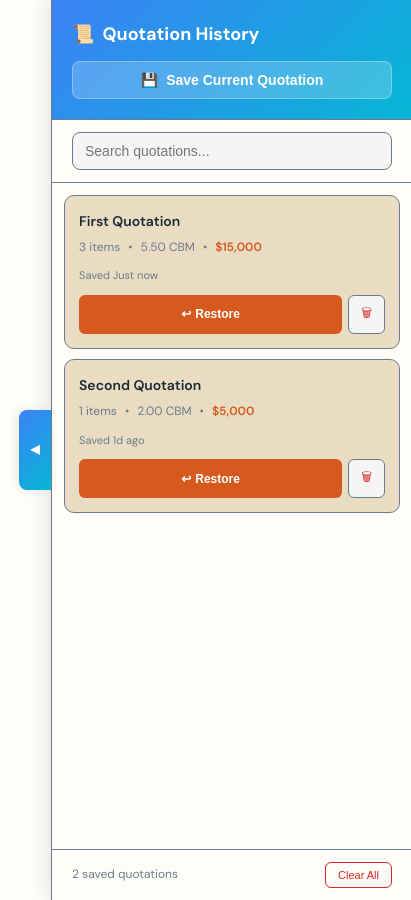
Test: HistoryPanel › rename functionality › should cancel edit on escape key
Click the text "First Quotation".
click(130, 221)  # box x1=79 y1=212 x2=180 y2=230
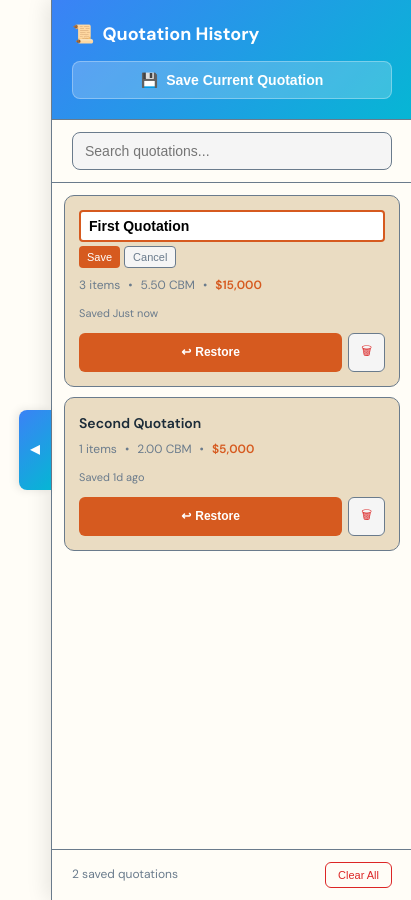
Type "Changed" into the field showing "First Quotation".
click(232, 226); type("Changed")  # box x1=79 y1=210 x2=385 y2=242
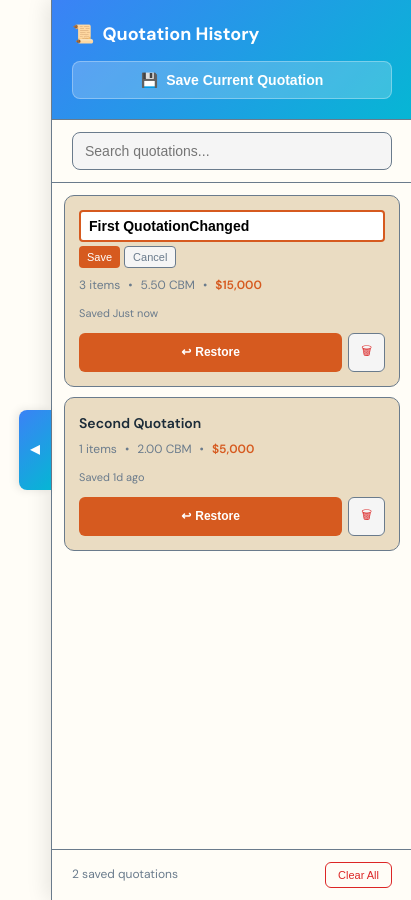
Press Escape
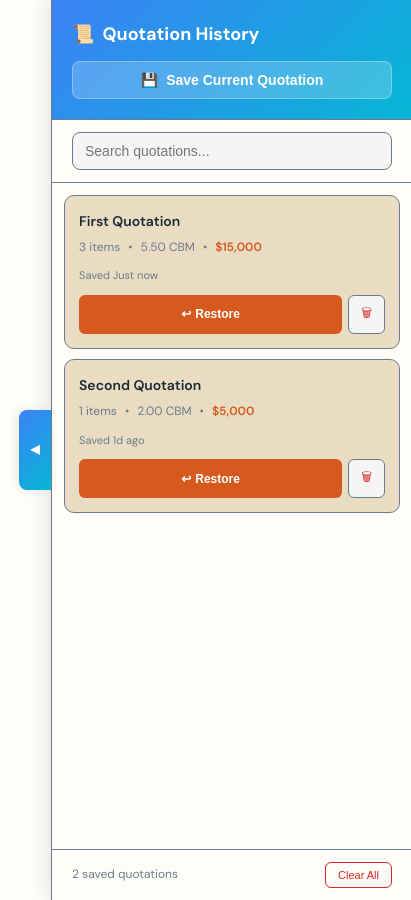
Expected: the field showing "First QuotationChanged" is not shown
Expected: the text "First Quotation" is shown, x1=79 y1=212 x2=180 y2=230
